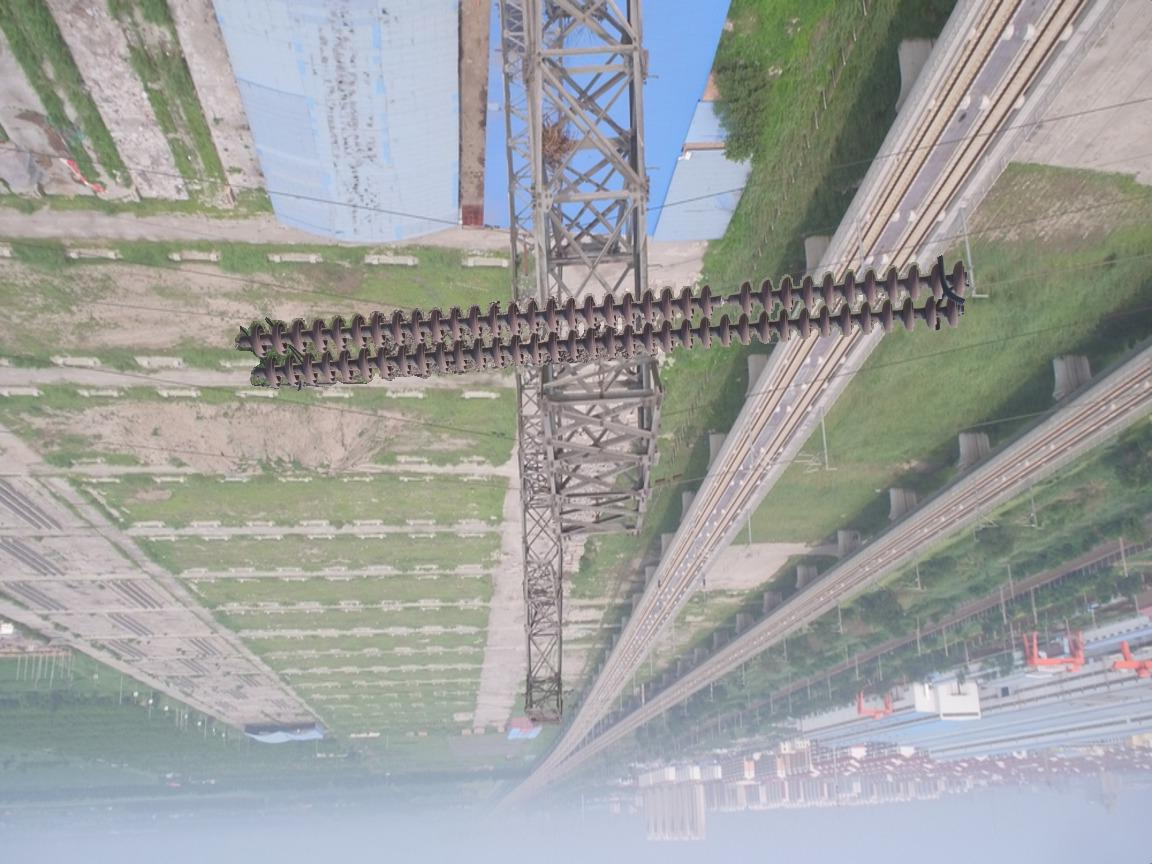insulator: (242, 248, 978, 392)
insulator_stringdrop: (696, 279, 756, 321)
